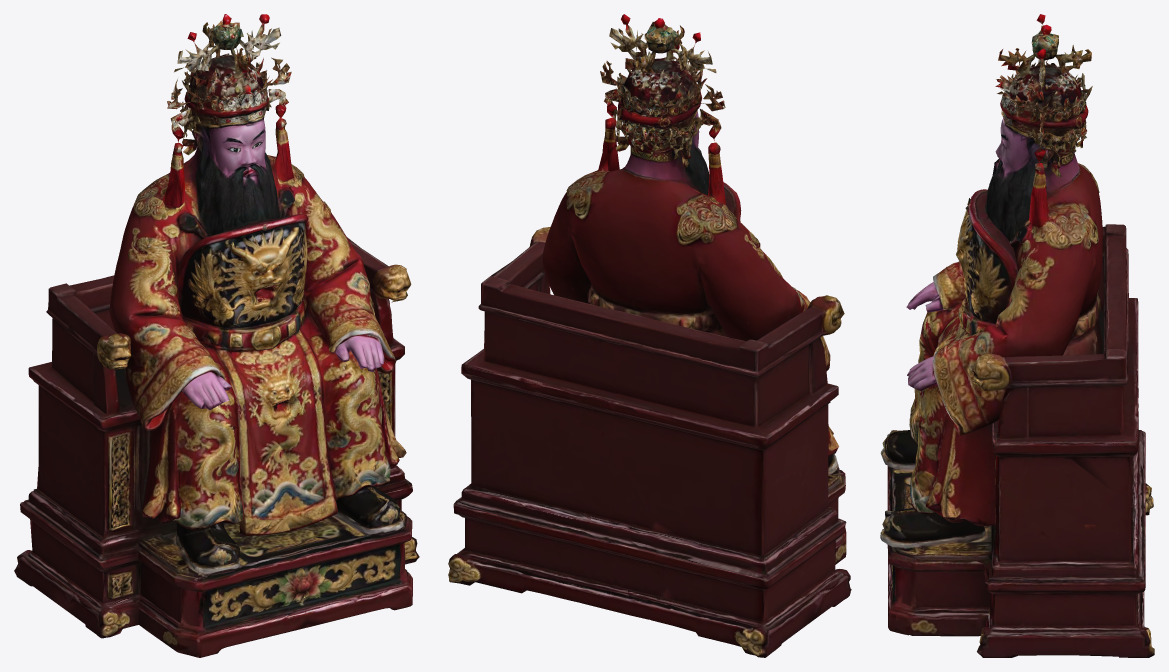
The model's file is 白马尊王.glb.
The picture shows the model from 3 angles, left to right: view 1: azimuth 30°, elevation 25°; view 2: azimuth 150°, elevation 25°; view 3: azimuth 270°, elevation 25°; orthographic projection.
Parts seen in each view (by area): view 1: tripo_node_fa35848d-688c-4231-8aec-99c82b7e97aa; view 2: tripo_node_fa35848d-688c-4231-8aec-99c82b7e97aa; view 3: tripo_node_fa35848d-688c-4231-8aec-99c82b7e97aa.
Boxes of the visible parts, x1=… form: tripo_node_fa35848d-688c-4231-8aec-99c82b7e97aa: x1=14, y1=14, x2=419, y2=657; tripo_node_fa35848d-688c-4231-8aec-99c82b7e97aa: x1=448, y1=14, x2=851, y2=657; tripo_node_fa35848d-688c-4231-8aec-99c82b7e97aa: x1=880, y1=14, x2=1154, y2=657.
Bounding box in the file's own units: 0.5788 × 0.9797 × 0.4373.
1 material, 1 textured.
